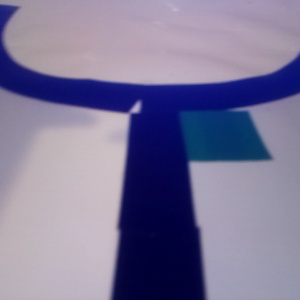bottom_right: (132, 86, 272, 160)
